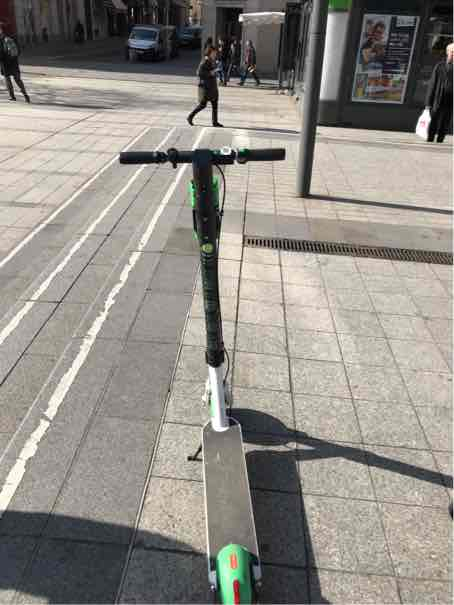scooter: (116, 126, 302, 594)
